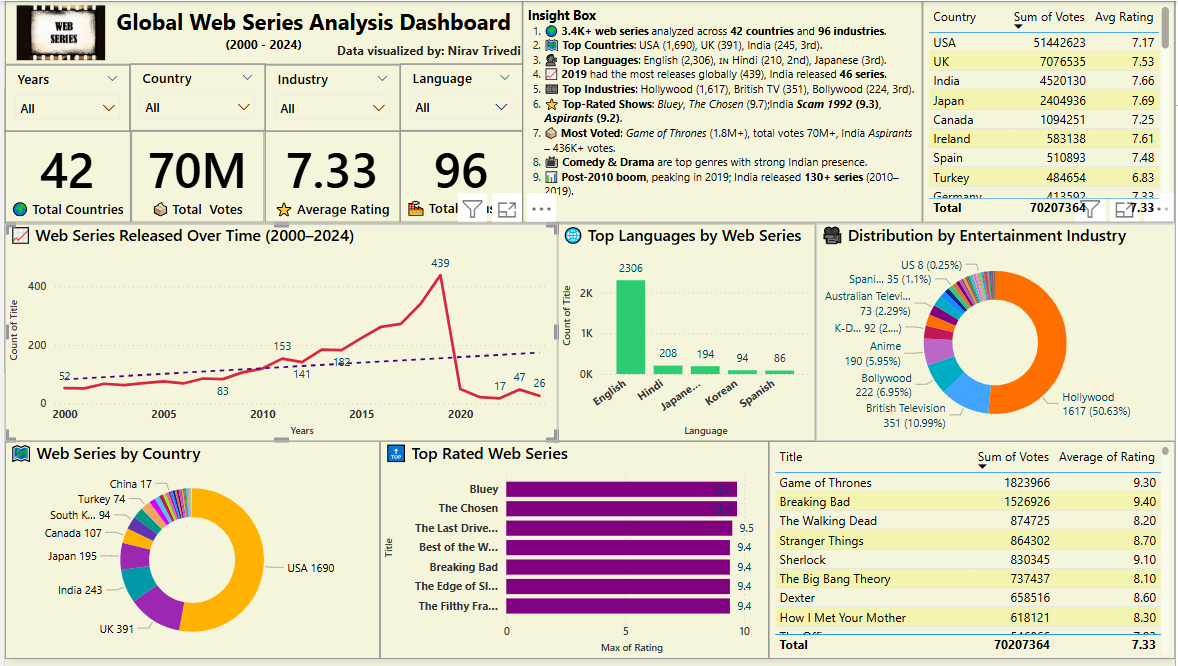

What the dashboard file says about the page in this screenshot:
{"tool":"powerbi","page":{"name":"Page 1","canvas":[1280,720],"ordinal":0},"visuals":[{"type":"donutChart","title":"🗺️ Web Series by Country","fields":{"Category":["imdb_tvshows.Country "],"Y":["CountNonNull(imdb_tvshows.SR No)"]},"box":[0,481.6,410.3,238.8],"z":0},{"type":"lineChart","title":"📈 Web Series Released Over Time (2000–2024)","fields":{"Category":["imdb_tvshows.Years"],"Y":["CountNonNull(imdb_tvshows.Title)"]},"box":[0,242.9,605.1,238.8],"z":1000},{"type":"barChart","title":"🔝 Top Rated Web Series","fields":{"Category":["imdb_tvshows.Title"],"Y":["Max(imdb_tvshows.Rating)"]},"box":[410.3,481.6,425.4,238.8],"z":2000},{"type":"donutChart","title":"🎥 Distribution by Entertainment Industry","fields":{"Y":["CountNonNull(imdb_tvshows.SR No)"],"Category":["imdb_tvshows.Industry"]},"box":[887.8,242.9,392.5,238.8],"z":3000},{"type":"tableEx","fields":{"Values":["imdb_tvshows.Title","Sum(imdb_tvshows.Votes)","Avg(imdb_tvshows.Rating)"]},"box":[835.7,481.6,444.6,238.8],"z":4000},{"type":"columnChart","title":"🌐 Top Languages by Web Series ","fields":{"Category":["imdb_tvshows.Language"],"Y":["CountNonNull(imdb_tvshows.Title)"]},"box":[605.1,242.9,282.7,238.8],"z":5000},{"type":"card","fields":{"Values":["Count(imdb_tvshows.Country )"]},"box":[0,142.7,137.2,100.2],"z":6000},{"type":"card","fields":{"Values":["Sum(imdb_tvshows.Votes)"]},"box":[138.6,142.7,145.5,100.2],"z":7000},{"type":"card","fields":{"Values":["Avg(imdb_tvshows.Rating)"]},"box":[284,142.7,148.2,100.2],"z":8000},{"type":"card","fields":{"Values":["Count(imdb_tvshows.Industry)"]},"box":[432.2,142.3,134,99.9],"z":9000},{"type":"slicer","fields":{"Values":["imdb_tvshows.Country "]},"box":[136.8,68.4,147.7,73.9],"z":10000},{"type":"slicer","fields":{"Values":["imdb_tvshows.Industry"]},"box":[284.5,69.8,147.7,72.5],"z":11000},{"type":"slicer","fields":{"Values":["imdb_tvshows.Language"]},"box":[432.2,68.4,134,73.9],"z":12000},{"type":"slicer","fields":{"Values":["imdb_tvshows.Years"]},"box":[0,69.8,136.8,72.5],"z":13000},{"type":"textbox","box":[0,0,566.3,69.8],"z":14000},{"type":"textbox","box":[566.3,0,437.7,242.1],"z":15000},{"type":"tableEx","fields":{"Values":["imdb_tvshows.Country ","Sum(imdb_tvshows.Votes)","Avg(imdb_tvshows.Rating)"]},"box":[1004,0,276.3,242.1],"z":16000},{"type":"textbox","box":[340.6,38.3,225.7,30.1],"z":17000},{"type":"image","box":[0,0,121.7,69.8],"z":18000},{"type":"textbox","box":[0,690.7,299.6,28.7],"z":19000}]}

Visuals, with their boxes in screenshot pixels (x1, y1, x2, y2), scaled from the page's 1280x720 canvas onto the 1178x666 screenshot:
"🗺️ Web Series by Country" donutChart: x1=0, y1=445, x2=378, y2=665
"📈 Web Series Released Over Time (2000–2024)" lineChart: x1=0, y1=225, x2=557, y2=446
"🔝 Top Rated Web Series" barChart: x1=378, y1=445, x2=769, y2=665
"🎥 Distribution by Entertainment Industry" donutChart: x1=817, y1=225, x2=1177, y2=446
tableEx - imdb_tvshows.Title x Sum(imdb_tvshows.Votes): x1=769, y1=445, x2=1177, y2=665
"🌐 Top Languages by Web Series " columnChart: x1=557, y1=225, x2=817, y2=446
card - Count(imdb_tvshows.Country ): x1=0, y1=132, x2=126, y2=225
card - Sum(imdb_tvshows.Votes): x1=128, y1=132, x2=261, y2=225
card - Avg(imdb_tvshows.Rating): x1=261, y1=132, x2=398, y2=225
card - Count(imdb_tvshows.Industry): x1=398, y1=132, x2=521, y2=224
slicer - imdb_tvshows.Country : x1=126, y1=63, x2=262, y2=132
slicer - imdb_tvshows.Industry: x1=262, y1=65, x2=398, y2=132
slicer - imdb_tvshows.Language: x1=398, y1=63, x2=521, y2=132
slicer - imdb_tvshows.Years: x1=0, y1=65, x2=126, y2=132
textbox: x1=0, y1=0, x2=521, y2=65
textbox: x1=521, y1=0, x2=924, y2=224
tableEx - imdb_tvshows.Country  x Sum(imdb_tvshows.Votes): x1=924, y1=0, x2=1177, y2=224
textbox: x1=313, y1=35, x2=521, y2=63
image: x1=0, y1=0, x2=112, y2=65
textbox: x1=0, y1=639, x2=276, y2=665
